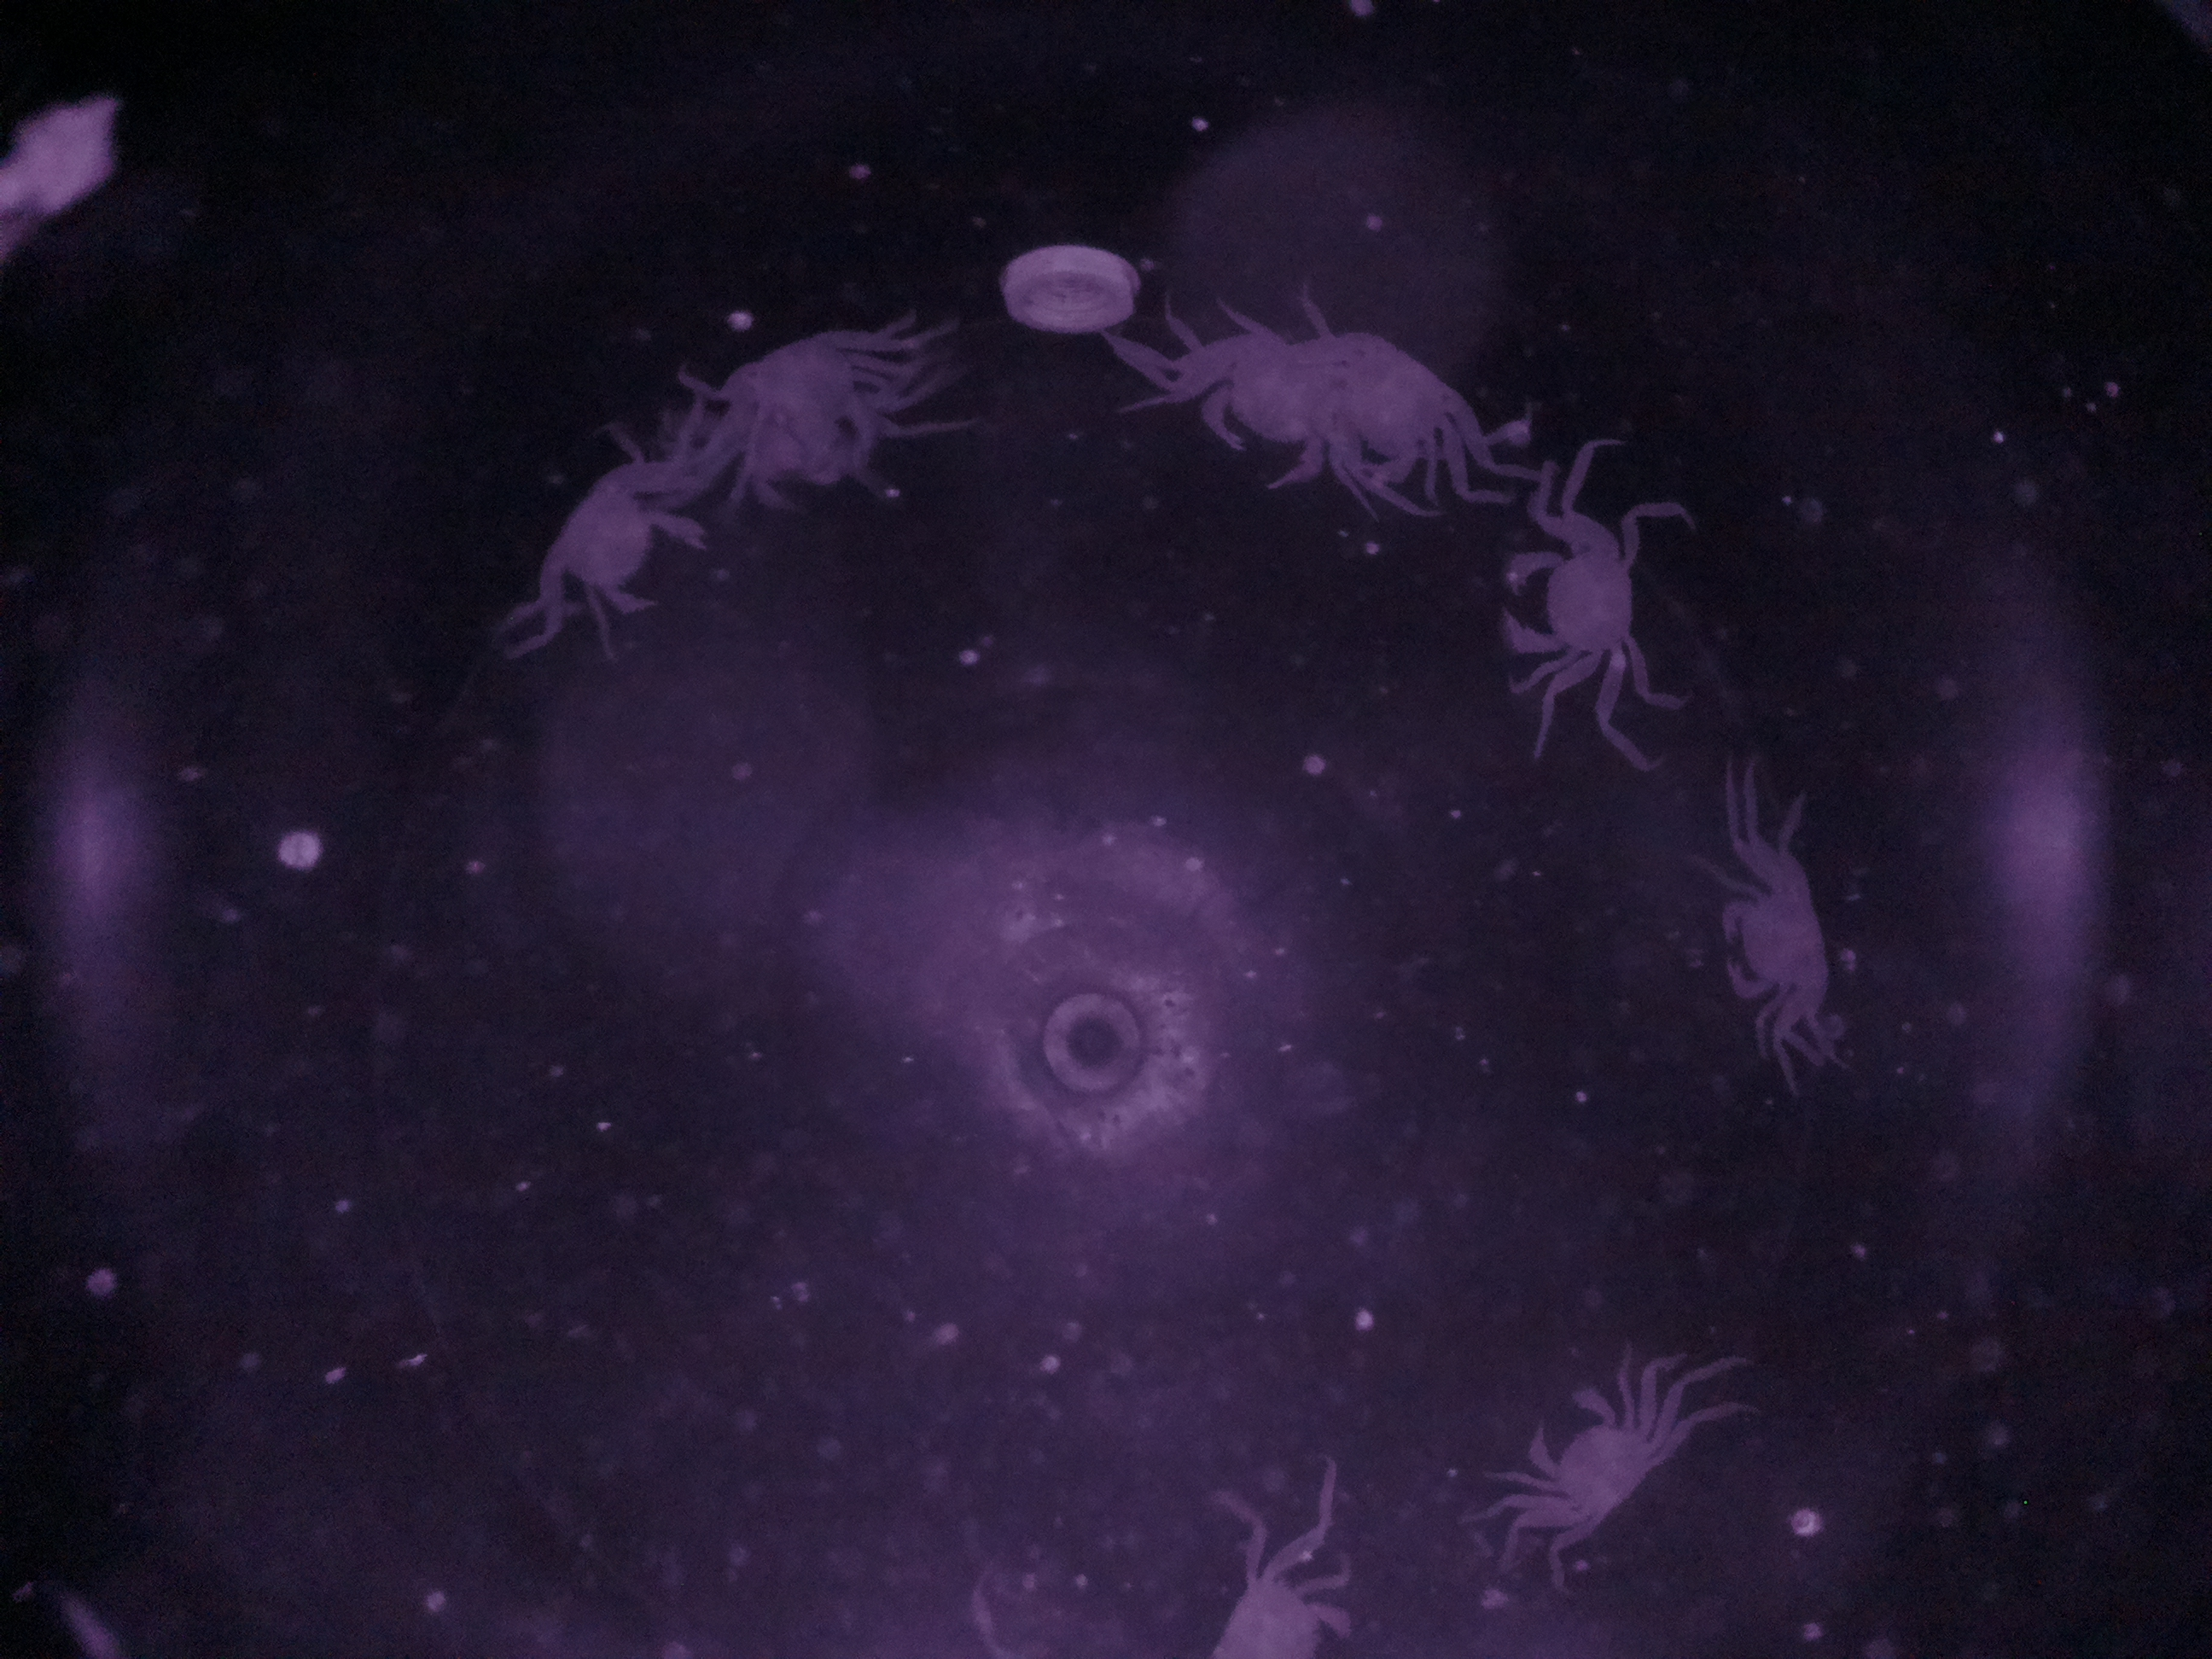Crab: (1480, 491, 1658, 730), (1494, 1366, 1681, 1563), (1689, 842, 1857, 1053)
